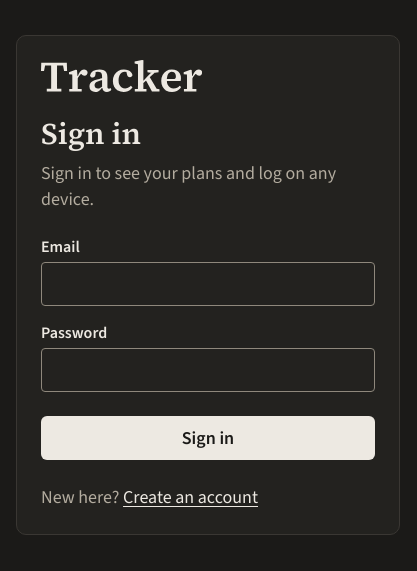
Test: signing in › explains a locked account
Type "correct horse battery" into the password field with id "login-password".
click(208, 370); type("correct horse battery")  # box [41,348,375,392]
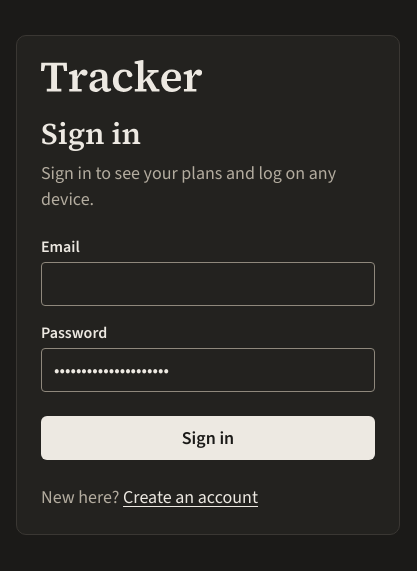
Submit the form, box [41,236,375,460]
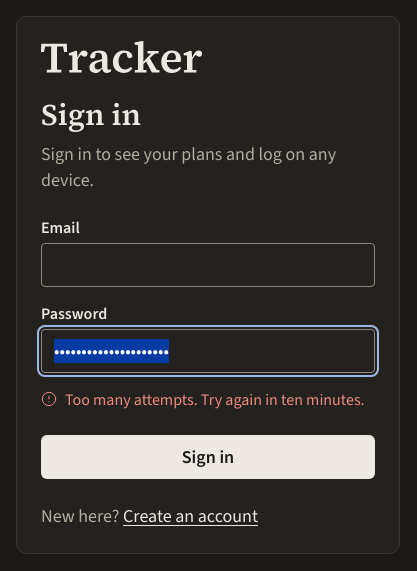
Expected: the heading "Sign in" is shown, [41,94,141,135]
Expected: the message with test id "login-problem" reads "Too many attempts. Try again in ten minutes.", [65,389,365,410]
